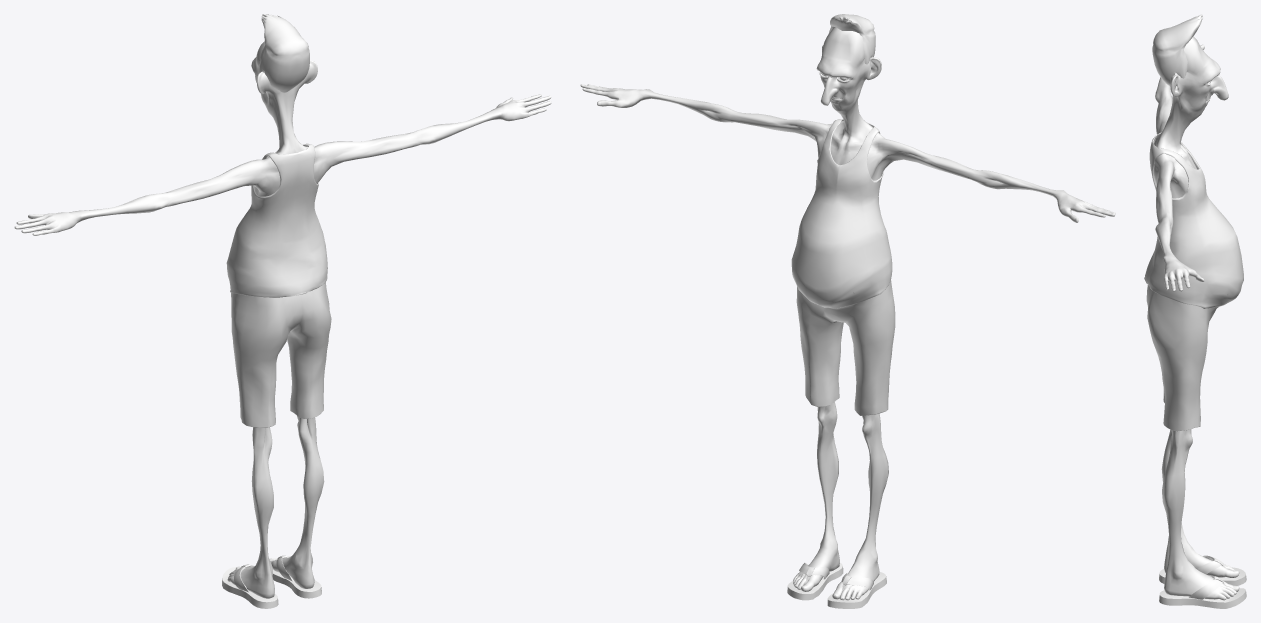
The model's file is character.glb.
3 renders of one model, left to right at view 1: azimuth 30°, elevation 25°; view 2: azimuth 150°, elevation 25°; view 3: azimuth 270°, elevation 25°, orthographic.
Visible parts, largest first — view 1: CC_Base_Body, Classic_Shorts, Tank_top, Hair_M01, Flip-flops; view 2: CC_Base_Body, Tank_top, Classic_Shorts, Flip-flops, Hair_M01; view 3: CC_Base_Body, Tank_top, Classic_Shorts, Hair_M01, Flip-flops.
Part boxes in pixels (<box>): CC_Base_Body: <box>14,41,551,598</box>; Classic_Shorts: <box>231,282,331,427</box>; Tank_top: <box>226,143,327,297</box>; Hair_M01: <box>259,14,309,92</box>; Flip-flops: <box>222,555,321,608</box>; CC_Base_Body: <box>580,27,1115,600</box>; Tank_top: <box>791,119,892,308</box>; Classic_Shorts: <box>794,279,895,415</box>; Flip-flops: <box>787,563,886,608</box>; Hair_M01: <box>828,14,875,64</box>; CC_Base_Body: <box>1153,36,1239,600</box>; Tank_top: <box>1144,132,1243,308</box>; Classic_Shorts: <box>1146,285,1228,431</box>; Hair_M01: <box>1152,14,1202,86</box>; Flip-flops: <box>1159,555,1246,608</box>.
Bounding box in the file's own units: 1.98 × 2.03 × 0.3296.
16 materials, 1 textured.
